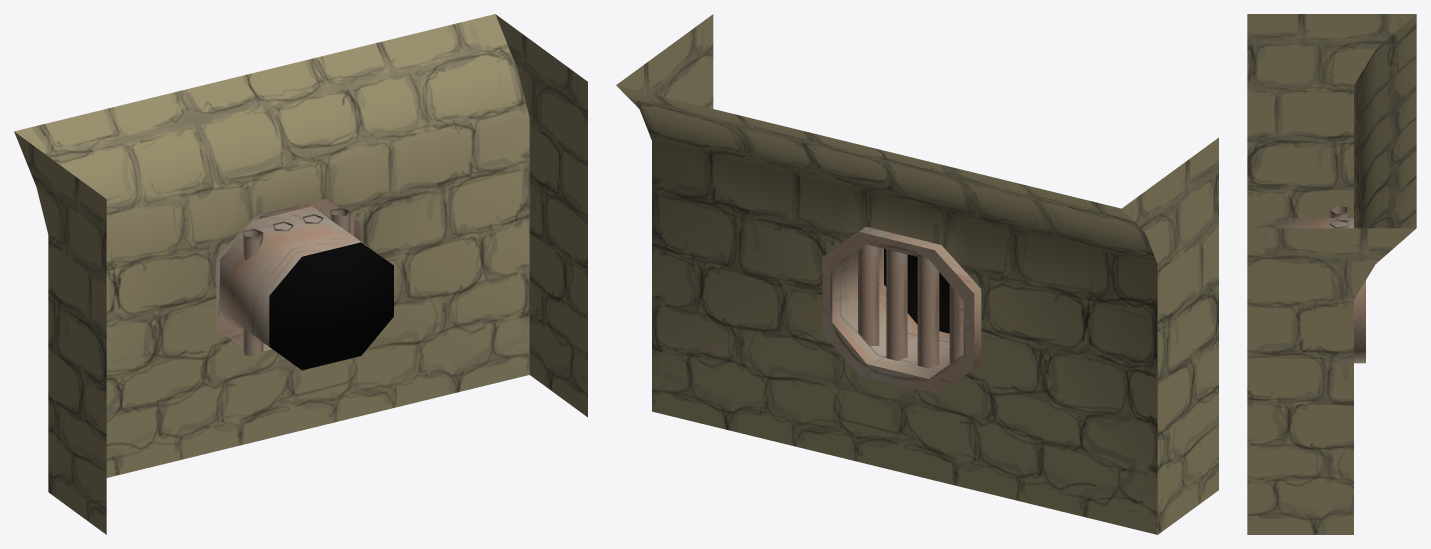
The model's file is WallUpperDetail.fbx.
3 renders of one model, left to right at view 1: azimuth 30°, elevation 25°; view 2: azimuth 150°, elevation 25°; view 3: azimuth 270°, elevation 25°, orthographic. The views are drawn at different scales.
Parts seen in each view (by area): view 1: WallUpperDetail; view 2: WallUpperDetail; view 3: WallUpperDetail.
Boxes of the visible parts, bbox=[...] form: WallUpperDetail: bbox=[14, 14, 587, 534]; WallUpperDetail: bbox=[616, 14, 1218, 534]; WallUpperDetail: bbox=[1247, 14, 1416, 534].
Bounding box in the file's own units: 300 × 200 × 100.
